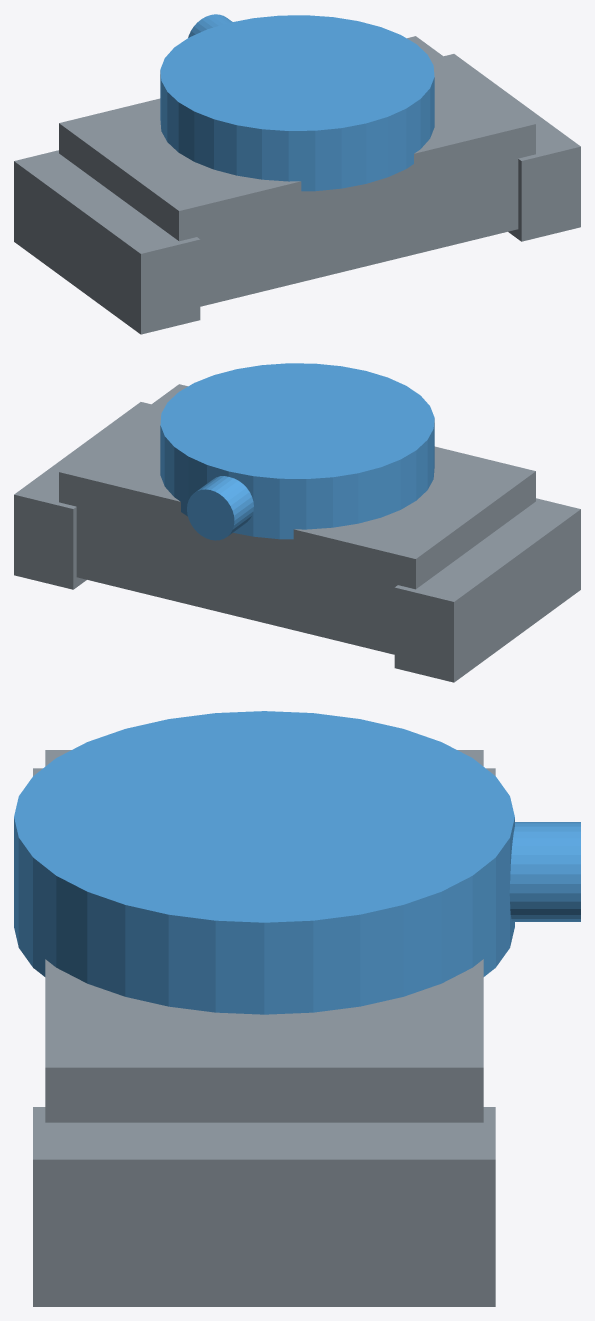
Rendered from SM_Alliance_AL_KestrelScout_Blockout.fbx.
3 views of the same model, one above another, from view 1: azimuth 30°, elevation 25°; view 2: azimuth 150°, elevation 25°; view 3: azimuth 270°, elevation 25° (orthographic). The views are drawn at different scales.
Parts seen in each view (by area): view 1: Chassis, Turret, Tracks_L, Tracks_R, GunBarrel; view 2: Chassis, Turret, Tracks_L, Tracks_R, GunBarrel; view 3: Turret, Tracks_R, Chassis, GunBarrel.
Part boxes in pixels (box(x1,y1,x2,y2)): Chassis: box(59, 36, 535, 306); Turret: box(160, 15, 434, 191); Tracks_L: box(14, 150, 200, 334); Tracks_R: box(444, 54, 580, 241); GunBarrel: box(188, 14, 232, 37); Chassis: box(59, 384, 535, 654); Turret: box(160, 363, 434, 539); Tracks_L: box(394, 498, 580, 682); Tracks_R: box(14, 402, 150, 589); GunBarrel: box(187, 476, 253, 540); Turret: box(14, 711, 514, 1014); Tracks_R: box(33, 1107, 495, 1306); Chassis: box(45, 750, 483, 1122); GunBarrel: box(509, 822, 580, 921).
Size of the model in its own units: 400 by 140 by 245.
